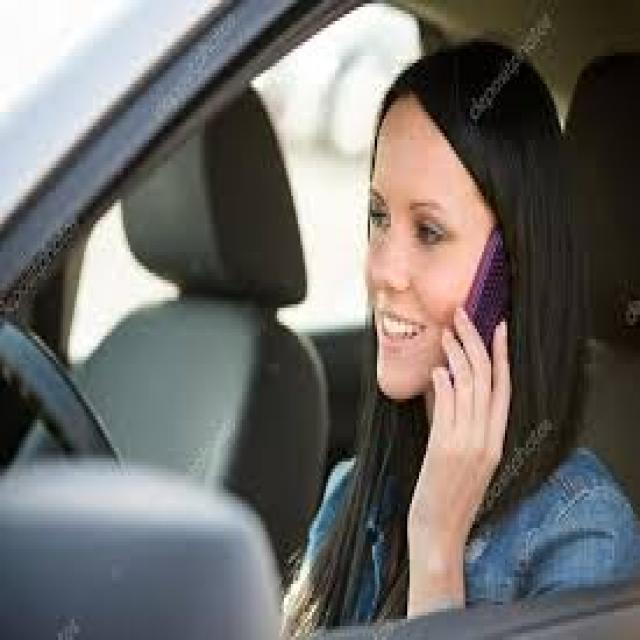Cellphone_calling: (409, 206, 524, 528)
